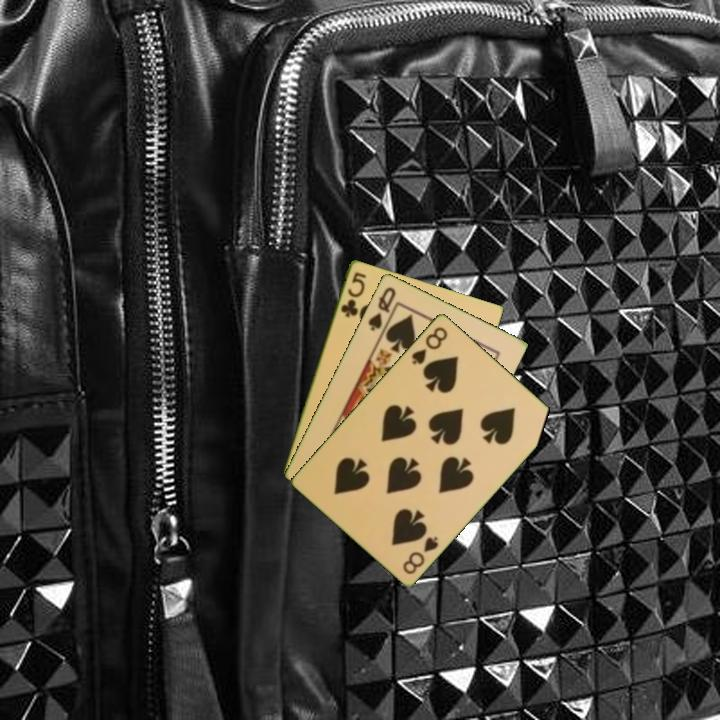5c: (337, 268, 369, 320)
8s: (408, 323, 451, 367), (399, 532, 441, 577)
Qs: (364, 283, 398, 334)
